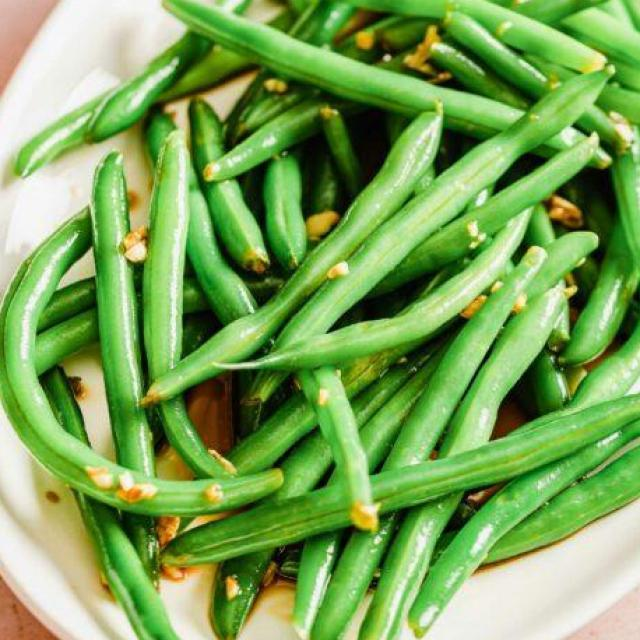Beans: (0, 0, 639, 639)
